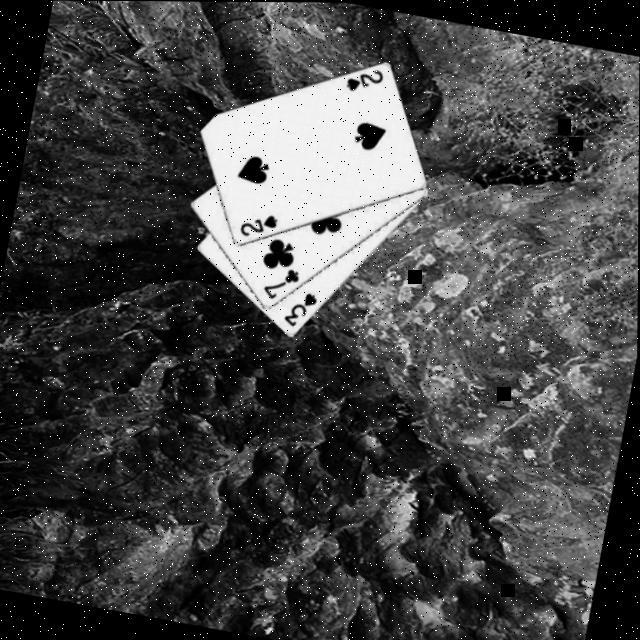2S: (339, 62, 385, 99), (234, 208, 278, 244)
3S: (276, 287, 318, 333)
7C: (258, 262, 302, 306)
